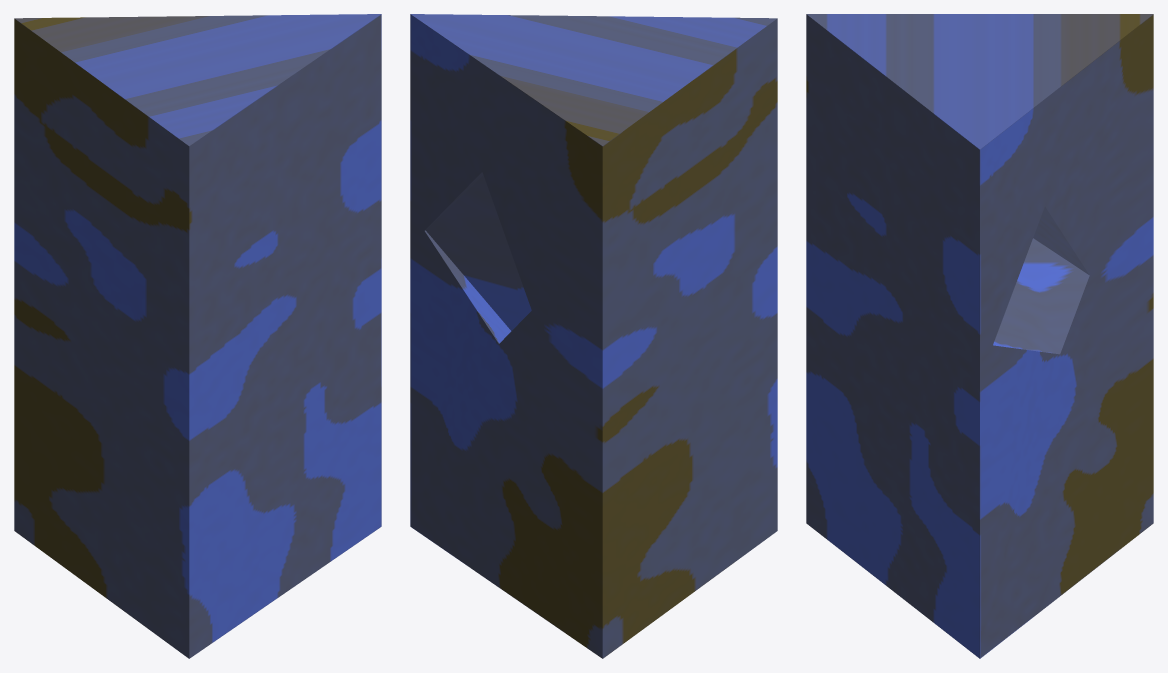
File: mushroom.glb
3 renders of one model, left to right at view 1: azimuth 30°, elevation 25°; view 2: azimuth 150°, elevation 25°; view 3: azimuth 270°, elevation 25°, orthographic.
Visible parts, largest first — view 1: geometry_0; view 2: geometry_0; view 3: geometry_0.
Boxes of the visible parts, box(x1,y1,x2,y2) form: geometry_0: box(14, 14, 381, 658); geometry_0: box(410, 14, 777, 658); geometry_0: box(806, 14, 1153, 658).
Bounding box in the file's own units: 1.16 × 2.03 × 1.25.
1 material, 1 textured.
